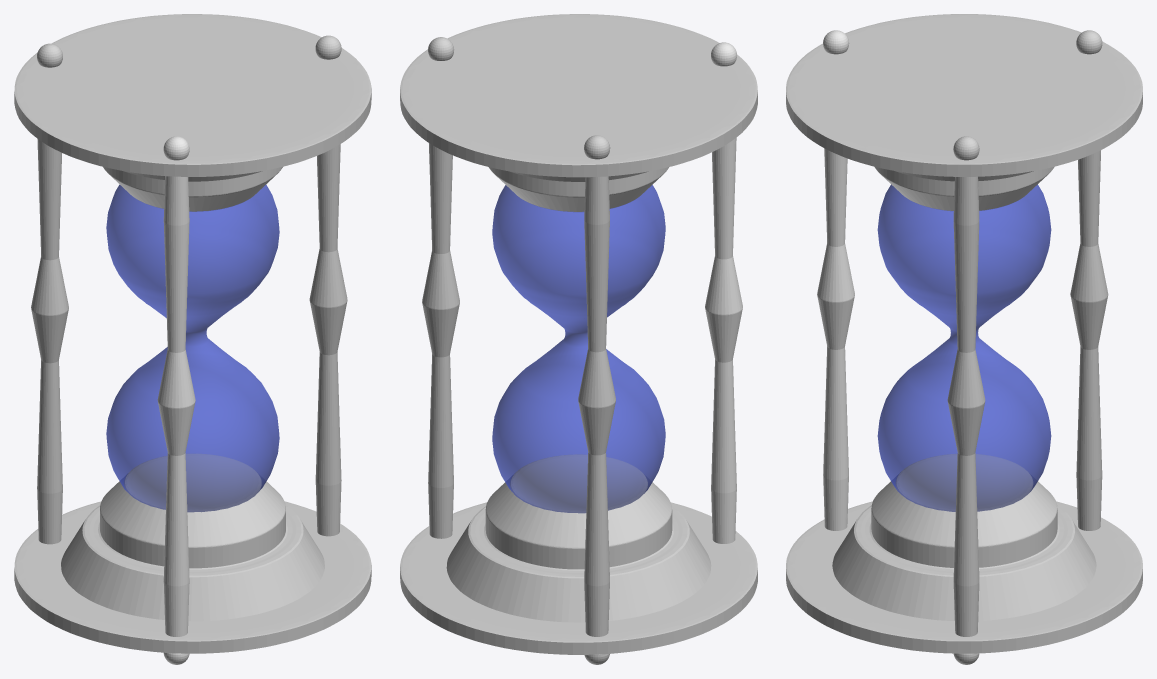
Rendered from hourglass 1.fbx.
3 renders of one model, left to right at view 1: azimuth 30°, elevation 25°; view 2: azimuth 150°, elevation 25°; view 3: azimuth 270°, elevation 25°, orthographic.
Parts seen in each view (by area): view 1: Cylinder.002, Sphere, Cylinder.001, Cylinder.003, Sphere.001, Sphere.002, Sphere.003, Cylinder; view 2: Cylinder.002, Sphere, Cylinder.001, Cylinder.003, Sphere.002, Sphere.001, Sphere.003, Cylinder; view 3: Cylinder.002, Sphere, Cylinder.001, Cylinder.003, Sphere.003, Sphere.001, Sphere.002, Cylinder.
Boxes of the visible parts, x1,y1,x2,y2 form: Cylinder.002: [14, 14, 371, 176]; Sphere: [106, 184, 279, 512]; Cylinder.001: [61, 454, 324, 621]; Cylinder.003: [14, 501, 371, 653]; Sphere.001: [157, 136, 195, 664]; Sphere.002: [31, 43, 68, 544]; Sphere.003: [309, 35, 347, 536]; Cylinder: [103, 166, 282, 211]; Cylinder.002: [400, 14, 757, 177]; Sphere: [492, 185, 665, 513]; Cylinder.001: [446, 454, 711, 622]; Cylinder.003: [400, 502, 757, 654]; Sphere.002: [578, 135, 615, 664]; Sphere.001: [705, 42, 742, 543]; Sphere.003: [422, 37, 459, 538]; Cylinder: [488, 167, 668, 211]; Cylinder.002: [786, 14, 1142, 176]; Sphere: [877, 184, 1051, 511]; Cylinder.001: [832, 454, 1096, 620]; Cylinder.003: [786, 501, 1142, 653]; Sphere.003: [947, 136, 985, 664]; Sphere.001: [817, 30, 854, 530]; Sphere.002: [1070, 30, 1108, 530]; Cylinder: [874, 166, 1054, 210].
Bounding box in the file's own units: 411 × 669 × 411.
